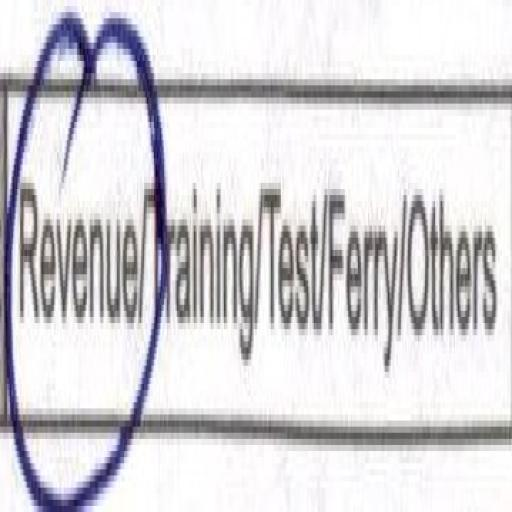check: (4, 4, 143, 512)
